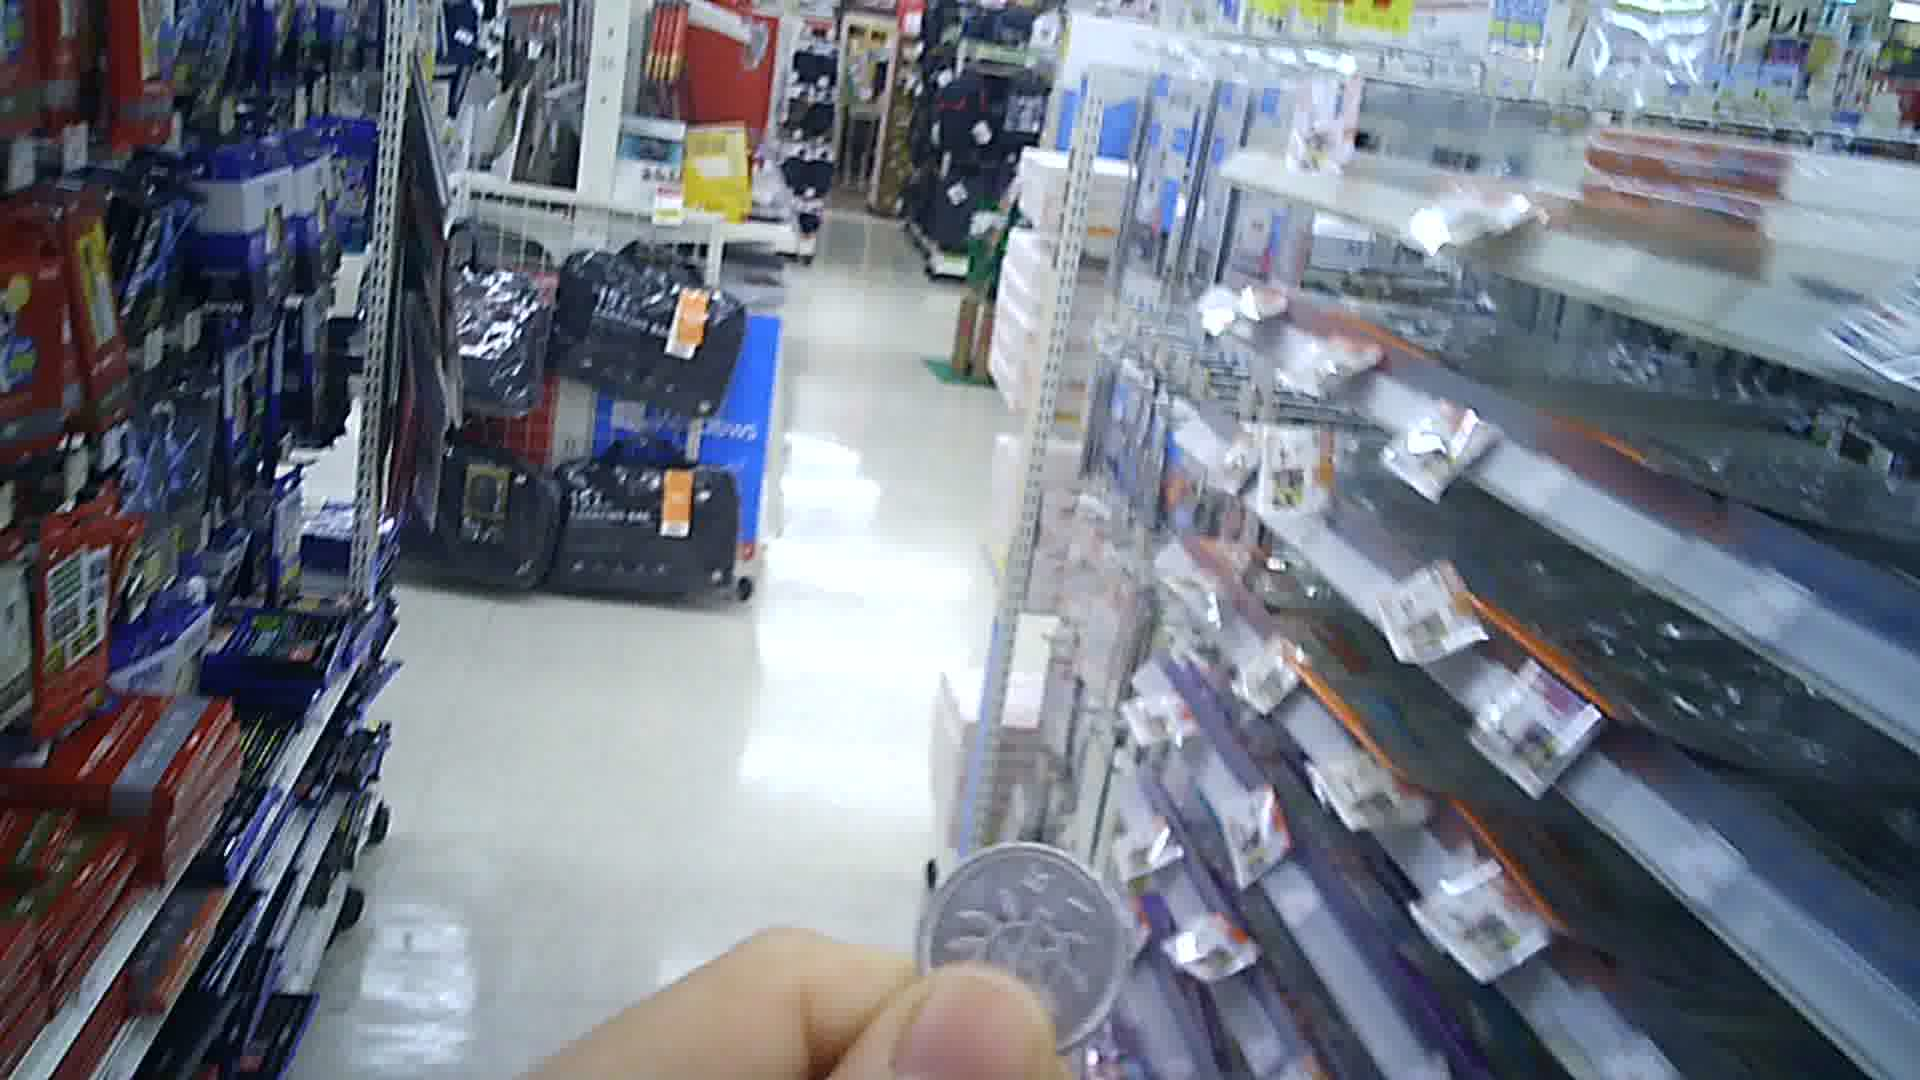1 Yen: (901, 832, 1145, 1054)
